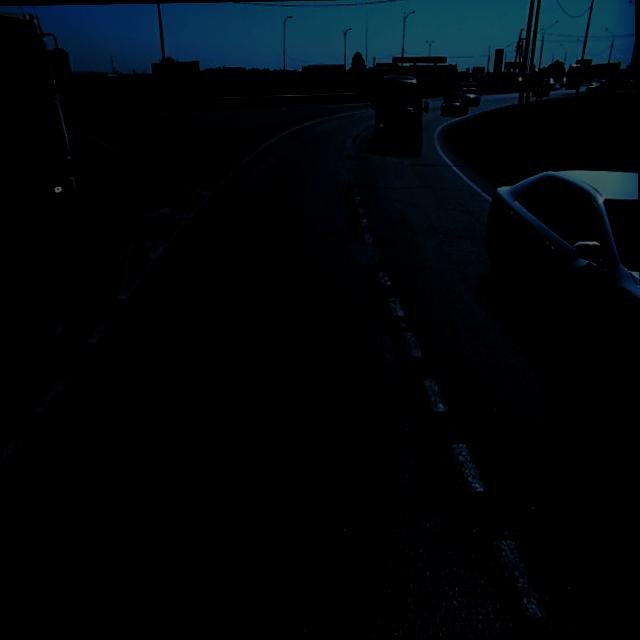road: (0, 92, 640, 640)
